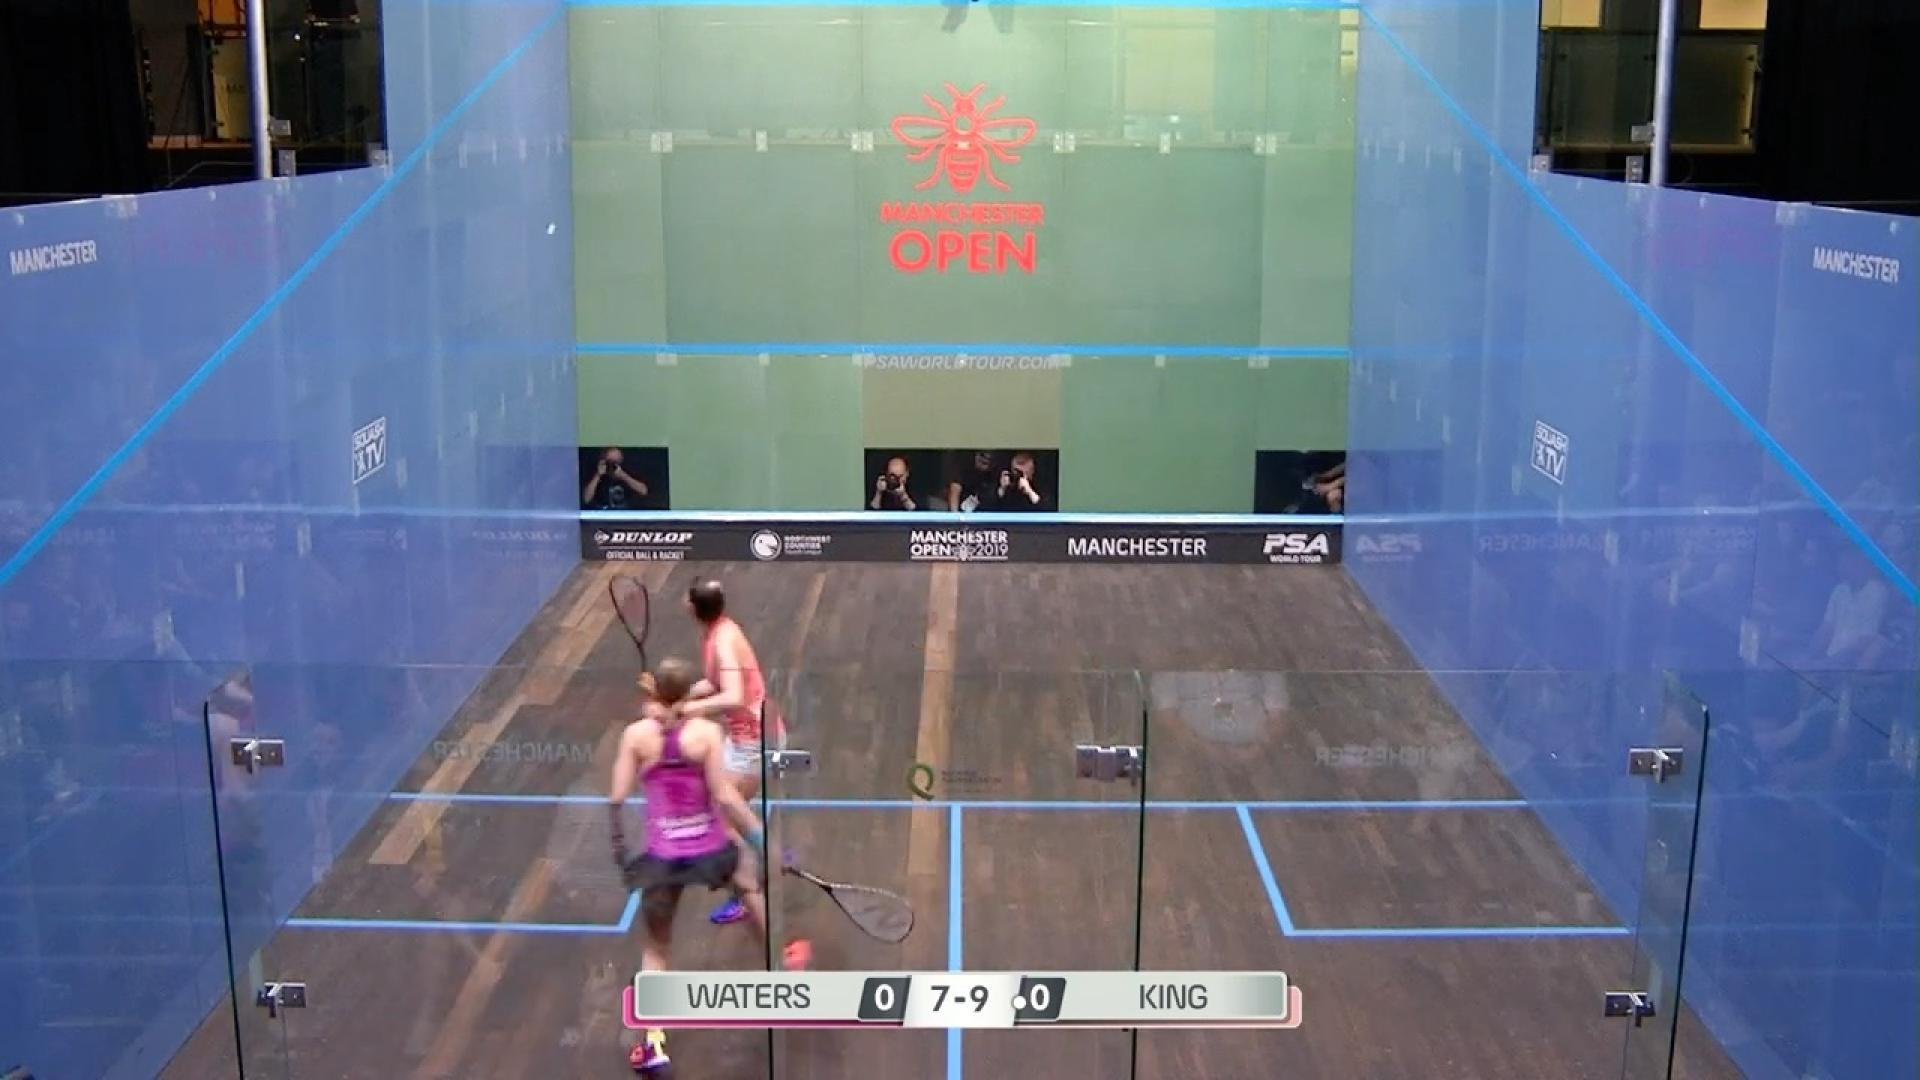Squash-Ball: (522, 202, 580, 265)
